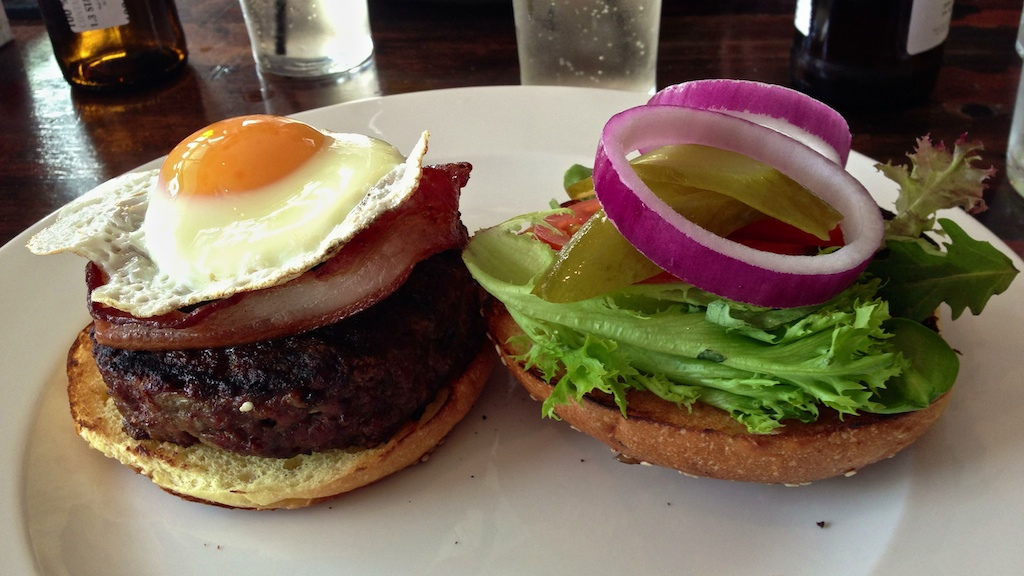chopped lettuce: (482, 235, 988, 423)
fried egg: (76, 112, 412, 299)
glass of water: (517, 1, 662, 88), (237, 1, 365, 82)
slice of bread: (522, 363, 934, 485), (69, 399, 495, 498)
